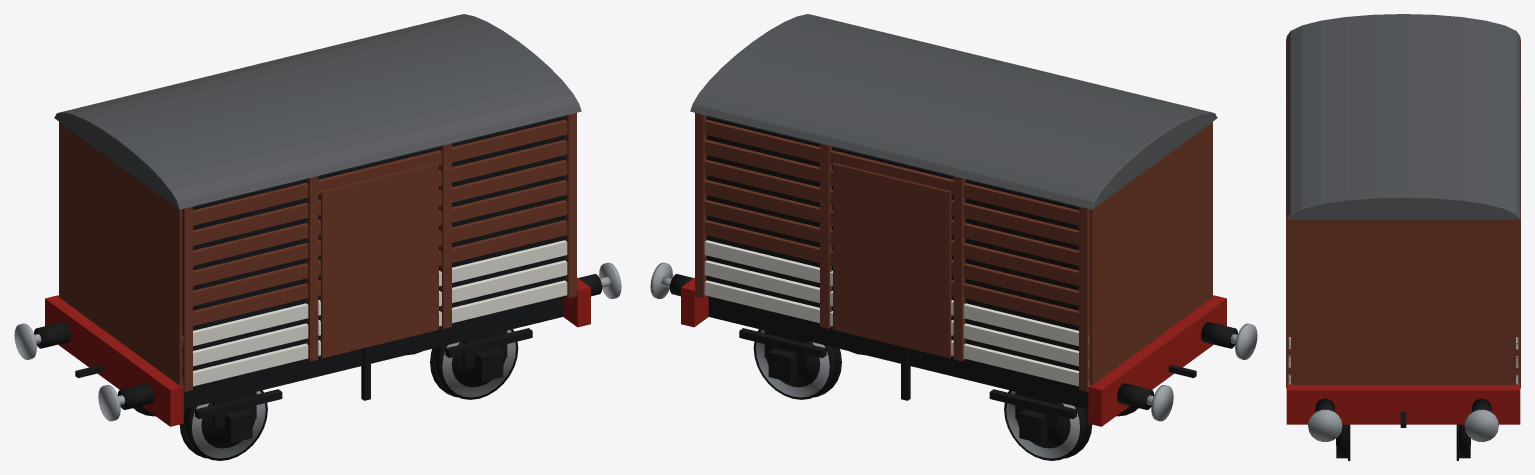
File: livestock_van.glb
The picture shows the model from 3 angles, left to right: view 1: azimuth 30°, elevation 25°; view 2: azimuth 150°, elevation 25°; view 3: azimuth 270°, elevation 25°; orthographic projection. The views are drawn at different scales.
Visible parts, largest first — view 1: teto, cabeceira.001, porta.001, miolo, longarina.001, viga.001, tabua.017, tabua.012, tabua.013, tabua.011, tabua.015, tabua.016 (+22 smaller); view 2: teto, cabeceira.001, porta, miolo, longarina, viga.001, tabua.008, tabua.001, tabua, tabua.002, tabua.003, tabua.006 (+22 smaller); view 3: teto, cabeceira, viga, buffer_cabeca, buffer_cabeca.001, montante.003, montante.007, roda_roda1, roda_roda-1.
Part boxes in pixels (left/top/right/bottom): teto: left=54, top=14, right=581, bottom=209; cabeceira.001: left=59, top=122, right=181, bottom=385; porta.001: left=320, top=163, right=438, bottom=358; miolo: left=193, top=115, right=565, bottom=386; longarina.001: left=183, top=296, right=563, bottom=409; viga.001: left=45, top=295, right=183, bottom=426; tabua.017: left=182, top=119, right=567, bottom=227; tabua.012: left=182, top=220, right=567, bottom=327; tabua.013: left=182, top=200, right=567, bottom=307; tabua.011: left=182, top=240, right=567, bottom=346; tabua.015: left=182, top=160, right=567, bottom=266; tabua.016: left=182, top=139, right=567, bottom=247; teto: left=690, top=14, right=1217, bottom=209; cabeceira.001: left=1090, top=122, right=1212, bottom=385; porta: left=833, top=163, right=951, bottom=358; miolo: left=706, top=115, right=1078, bottom=386; longarina: left=708, top=296, right=1088, bottom=409; viga.001: left=1088, top=295, right=1226, bottom=426; tabua.008: left=704, top=119, right=1089, bottom=225; tabua.001: left=704, top=260, right=1089, bottom=367; tabua: left=704, top=280, right=1088, bottom=386; tabua.002: left=704, top=240, right=1088, bottom=346; tabua.003: left=704, top=220, right=1088, bottom=325; tabua.006: left=704, top=160, right=1088, bottom=265; teto: left=1286, top=14, right=1520, bottom=219; cabeceira: left=1291, top=219, right=1515, bottom=384; viga: left=1286, top=384, right=1520, bottom=424; buffer_cabeca: left=1464, top=409, right=1498, bottom=441; buffer_cabeca.001: left=1308, top=409, right=1342, bottom=441; montante.003: left=1516, top=213, right=1520, bottom=388; montante.007: left=1286, top=213, right=1290, bottom=388; roda_roda1: left=1459, top=424, right=1470, bottom=458; roda_roda-1: left=1336, top=424, right=1347, bottom=458.
Bounding box in the file's own units: 6.05 × 3.61 × 2.61.
